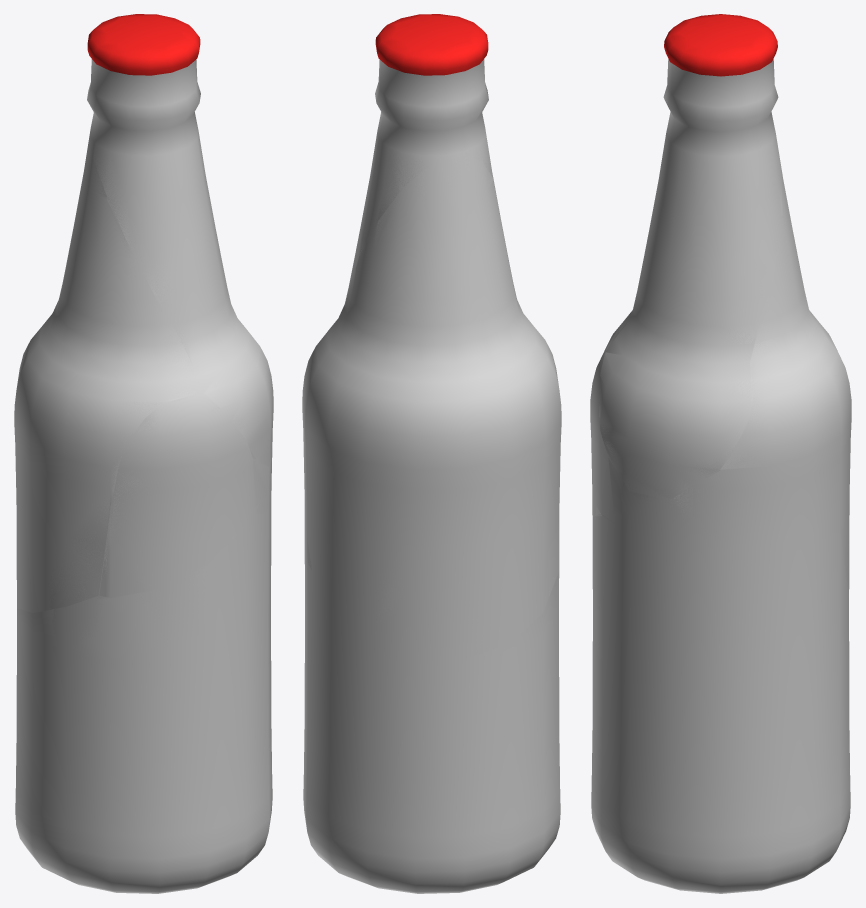
File: beerbottle.fbx
3 renders of one model, left to right at view 1: azimuth 30°, elevation 25°; view 2: azimuth 150°, elevation 25°; view 3: azimuth 270°, elevation 25°, orthographic.
Visible parts, largest first — view 1: Beer, Beer_cell.005, Beer_cell.004, Beer_cell.006, Cap, Beer_cell; view 2: Beer, Beer_cell.006, Beer_cell.005, Beer_cell.004, Cap; view 3: Beer, Beer_cell.004, Beer_cell.005, Beer_cell.006, Cap.
Boxes of the visible parts, left/top/right/bottom form: Beer: left=14, top=59, right=273, bottom=893; Beer_cell.005: left=15, top=489, right=272, bottom=893; Beer_cell.004: left=87, top=60, right=273, bottom=465; Beer_cell.006: left=28, top=142, right=271, bottom=609; Cap: left=87, top=14, right=200, bottom=75; Beer_cell: left=99, top=395, right=250, bottom=597; Beer: left=302, top=59, right=561, bottom=893; Beer_cell.006: left=302, top=156, right=559, bottom=656; Beer_cell.005: left=303, top=576, right=559, bottom=893; Beer_cell.004: left=324, top=60, right=496, bottom=335; Cap: left=375, top=14, right=488, bottom=75; Beer: left=590, top=59, right=851, bottom=893; Beer_cell.004: left=598, top=60, right=782, bottom=498; Beer_cell.005: left=591, top=511, right=849, bottom=893; Beer_cell.006: left=606, top=170, right=851, bottom=590; Cap: left=664, top=14, right=777, bottom=76.
Bounding box in the file's own units: 121 × 417 × 121.
